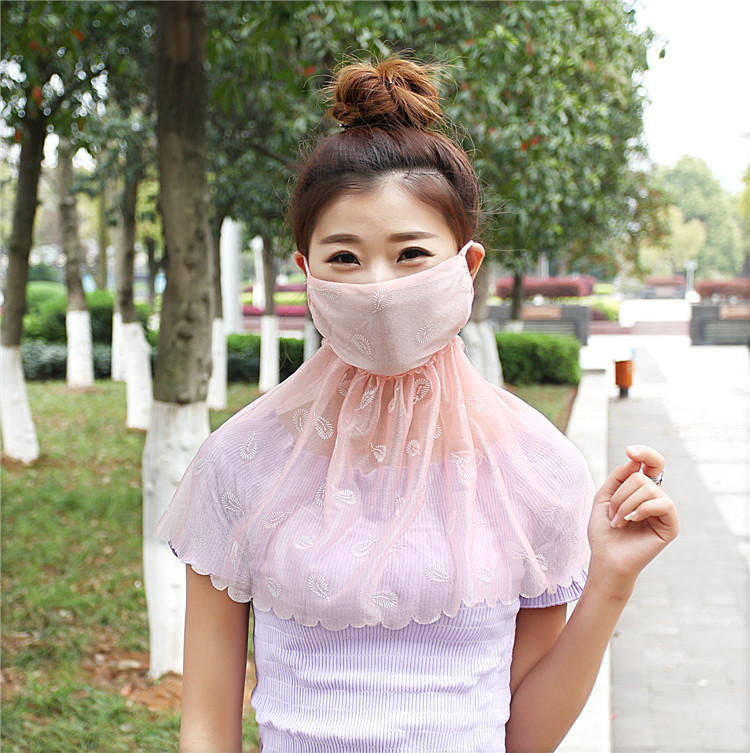face_mask: (304, 174, 463, 372)
